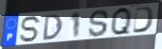1: (69, 11, 81, 40)
D: (131, 6, 156, 35), (42, 13, 64, 42)
Q: (110, 6, 132, 37)
S: (19, 15, 43, 44), (87, 9, 110, 38)
